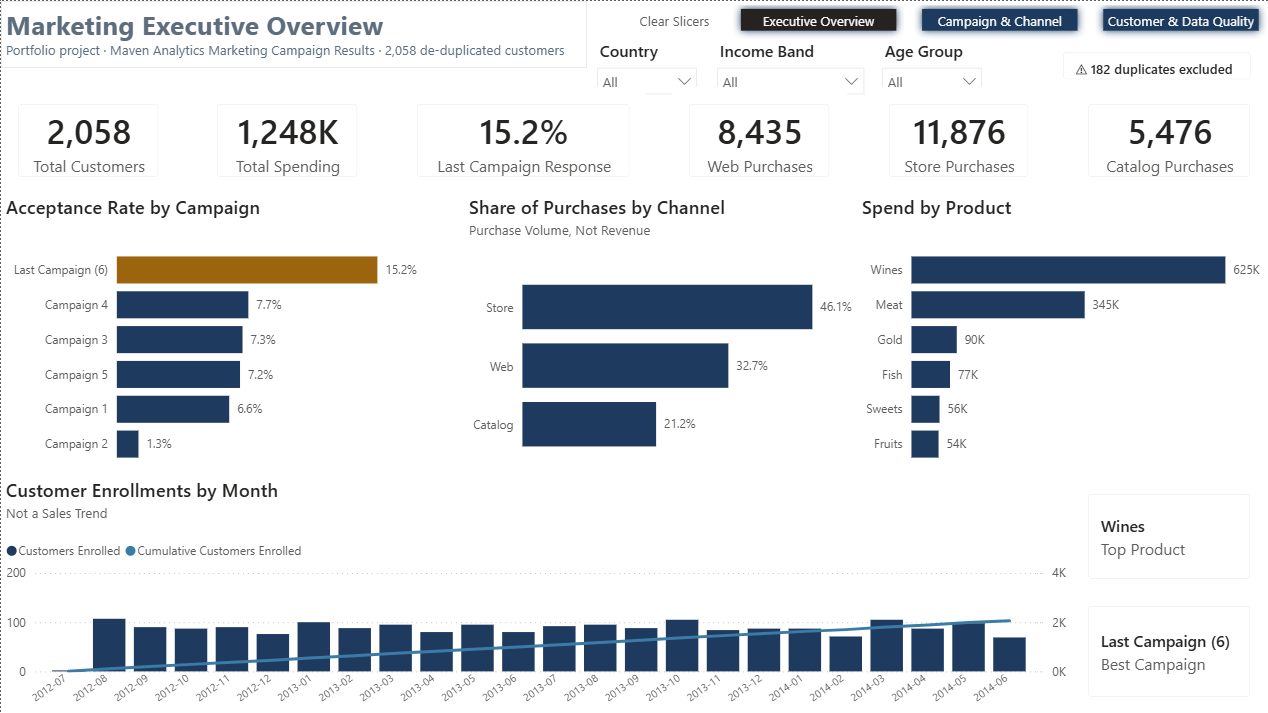

Layout of this report page (visuals, bound fields, positions):
{"tool":"powerbi","page":{"name":"Executive Overview","canvas":[1280,720],"ordinal":0},"visuals":[{"type":"textbox","box":[0,0,591.9,67.7],"z":0},{"type":"cardVisual","fields":{"Data":["_Measures.Data Quality Status"]},"box":[1055.6,34.3,224.2,62.6],"z":1000},{"type":"slicer","fields":{"Values":["Customer.Country"]},"box":[591.9,34.3,121.2,62.6],"z":2000},{"type":"slicer","fields":{"Values":["Customer.Income Band"]},"box":[713.1,34.3,168.7,63.6],"z":3000},{"type":"slicer","fields":{"Values":["Customer.Age Group"]},"box":[879.8,34.3,121.2,63.6],"z":4000},{"type":"cardVisual","fields":{"Data":["_Measures.Total Customers"]},"box":[0,86.9,176.8,108.1],"z":5000},{"type":"cardVisual","fields":{"Data":["_Measures.Catalog Purchases"]},"box":[1080.8,86.9,199,108.1],"z":6000},{"type":"cardVisual","fields":{"Data":["_Measures.Store Purchases"]},"box":[879.8,86.9,175.8,108.1],"z":7000},{"type":"cardVisual","fields":{"Data":["_Measures.Web Purchases"]},"box":[677.8,86.9,176.8,108.1],"z":8000},{"type":"cardVisual","fields":{"Data":["_Measures.Last Campaign Response Rate"]},"box":[403,86.9,249.5,108.1],"z":9000},{"type":"cardVisual","fields":{"Data":["_Measures.Total Spending"]},"box":[201,86.9,176.8,108.1],"z":10000},{"type":"clusteredBarChart","title":"Acceptance Rate by Campaign","fields":{"Category":["Campaign.Campaign"],"Y":["_Measures.Campaign Acceptance Rate"]},"box":[0,194.7,468.1,286.2],"z":11000},{"type":"clusteredBarChart","title":"Share of Purchases by Channel","fields":{"Category":["Channel.Channel"],"Y":["_Measures.Channel Share %"]},"box":[468.1,194.7,396.8,286.2],"z":12000},{"type":"clusteredBarChart","title":"Spend by Product","fields":{"Category":["Product.Product"],"Y":["_Measures.Total Spending"]},"box":[864.9,194.7,414.9,286.2],"z":13000},{"type":"lineClusteredColumnComboChart","title":"Customer Enrollments by Month","fields":{"Category":["Date.Year Month"],"Y":["_Measures.Customers Enrolled"],"Y2":["_Measures.Cumulative Customers Enrolled"]},"box":[0,480.9,1080.9,239.4],"z":14000},{"type":"cardVisual","fields":{"Data":["_Measures.Best Campaign"]},"box":[1080.9,593.6,198.9,126.6],"z":15000},{"type":"cardVisual","fields":{"Data":["_Measures.Top Product"]},"box":[1080.9,480.9,198.9,120.2],"z":16000},{"type":"pageNavigator","box":[739.4,0,540.4,38.4],"z":16001},{"type":"actionButton","box":[640.4,4,79.8,30.3],"z":16002}]}

Visuals, with their boxes in screenshot pixels (x1, y1, x2, y2), scaled from the page's 1280x720 canvas onto the 1268x713 screenshot:
textbox: rect(0, 0, 586, 67)
cardVisual - _Measures.Data Quality Status: rect(1046, 34, 1267, 96)
slicer - Customer.Country: rect(586, 34, 706, 96)
slicer - Customer.Income Band: rect(706, 34, 874, 97)
slicer - Customer.Age Group: rect(872, 34, 992, 97)
cardVisual - _Measures.Total Customers: rect(0, 86, 175, 193)
cardVisual - _Measures.Catalog Purchases: rect(1071, 86, 1267, 193)
cardVisual - _Measures.Store Purchases: rect(872, 86, 1046, 193)
cardVisual - _Measures.Web Purchases: rect(671, 86, 847, 193)
cardVisual - _Measures.Last Campaign Response Rate: rect(399, 86, 646, 193)
cardVisual - _Measures.Total Spending: rect(199, 86, 374, 193)
"Acceptance Rate by Campaign" clusteredBarChart: rect(0, 193, 464, 476)
"Share of Purchases by Channel" clusteredBarChart: rect(464, 193, 857, 476)
"Spend by Product" clusteredBarChart: rect(857, 193, 1267, 476)
"Customer Enrollments by Month" lineClusteredColumnComboChart: rect(0, 476, 1071, 712)
cardVisual - _Measures.Best Campaign: rect(1071, 588, 1267, 712)
cardVisual - _Measures.Top Product: rect(1071, 476, 1267, 595)
pageNavigator: rect(732, 0, 1267, 38)
actionButton: rect(634, 4, 713, 34)
